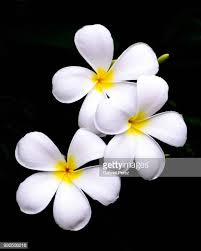frangipani: (15, 131, 117, 233)
